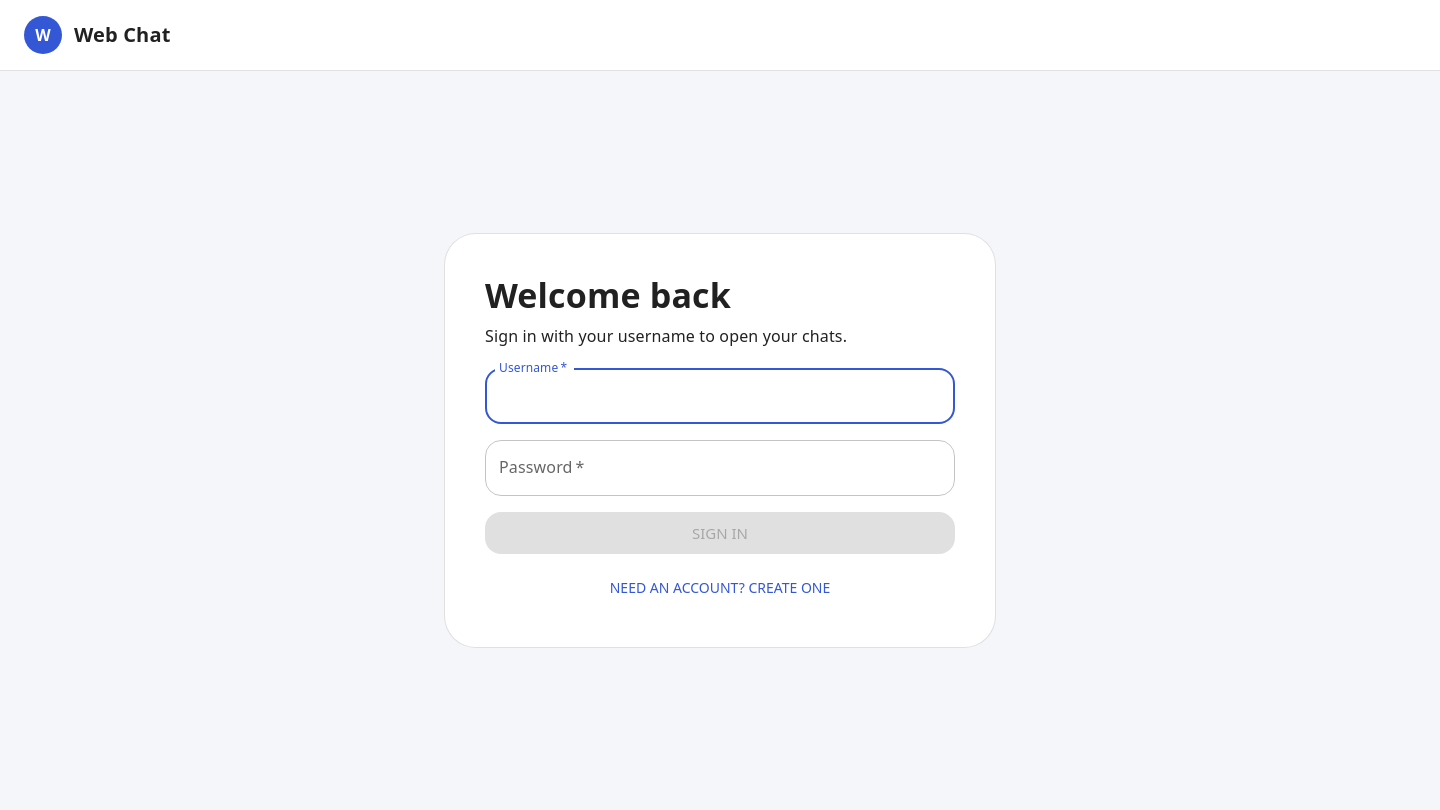
Test: chat application › shows login errors and registers without sending credentials as auth
Type "invalid" into the field labelled "Username" at (720, 396), box [485, 368, 955, 424]
Type "wrong-password" into the password field labelled "Password *" at (720, 468), box [485, 440, 955, 496]
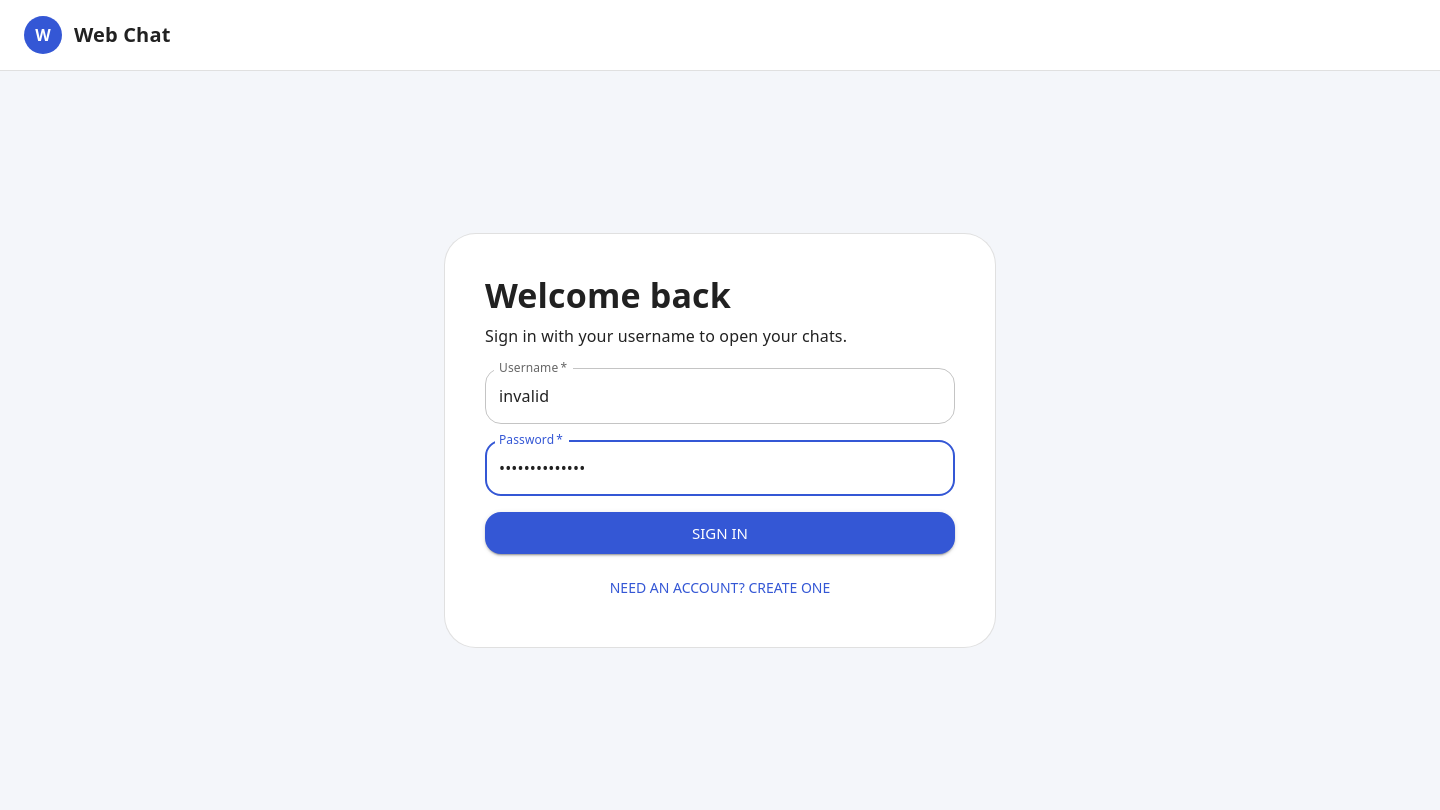
Click the button "Sign in" at (720, 533), box [485, 512, 955, 554]
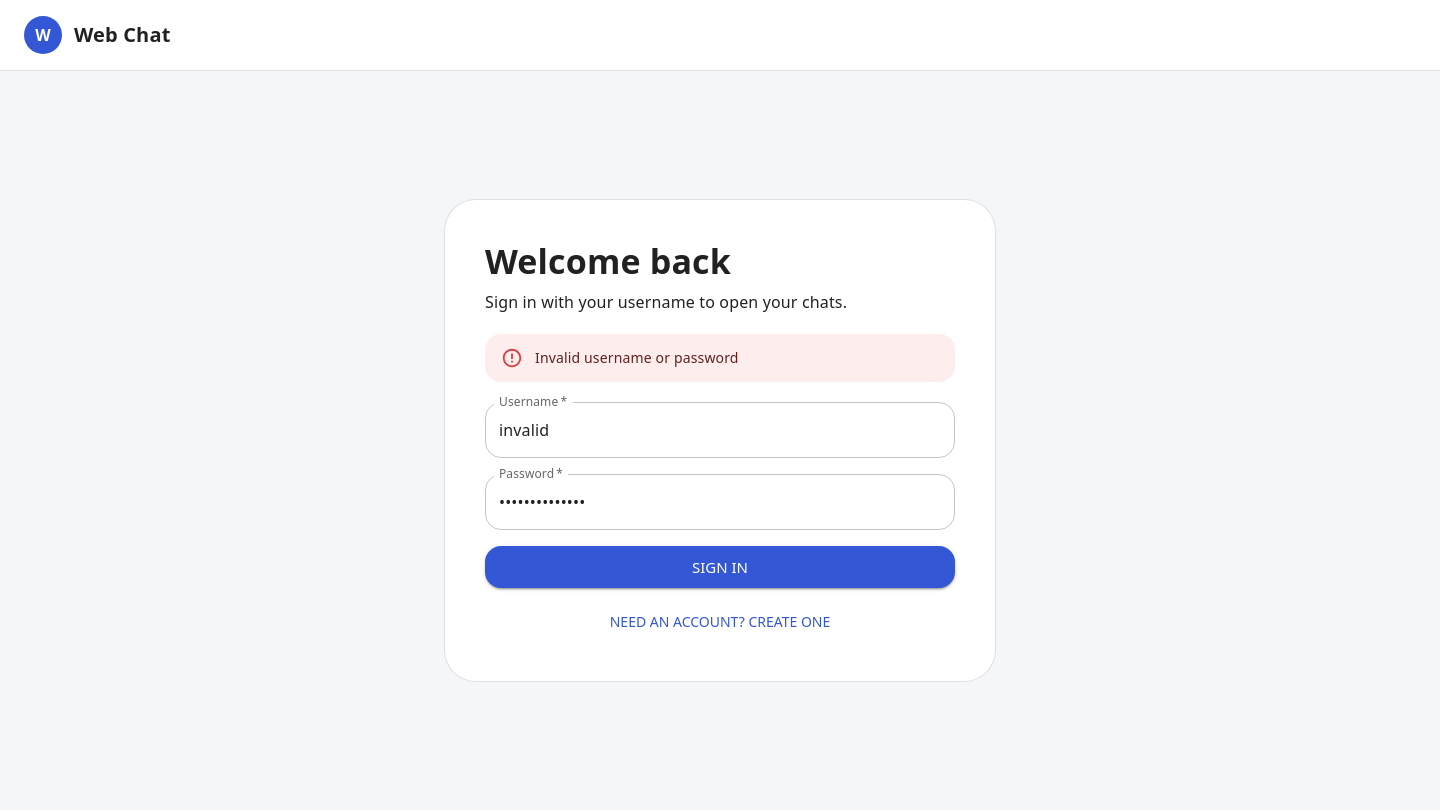
expect the message reads "Invalid username or password": met, box [535, 348, 739, 367]
Click the button "Need an account? Create one" at (720, 623), box [485, 604, 955, 641]
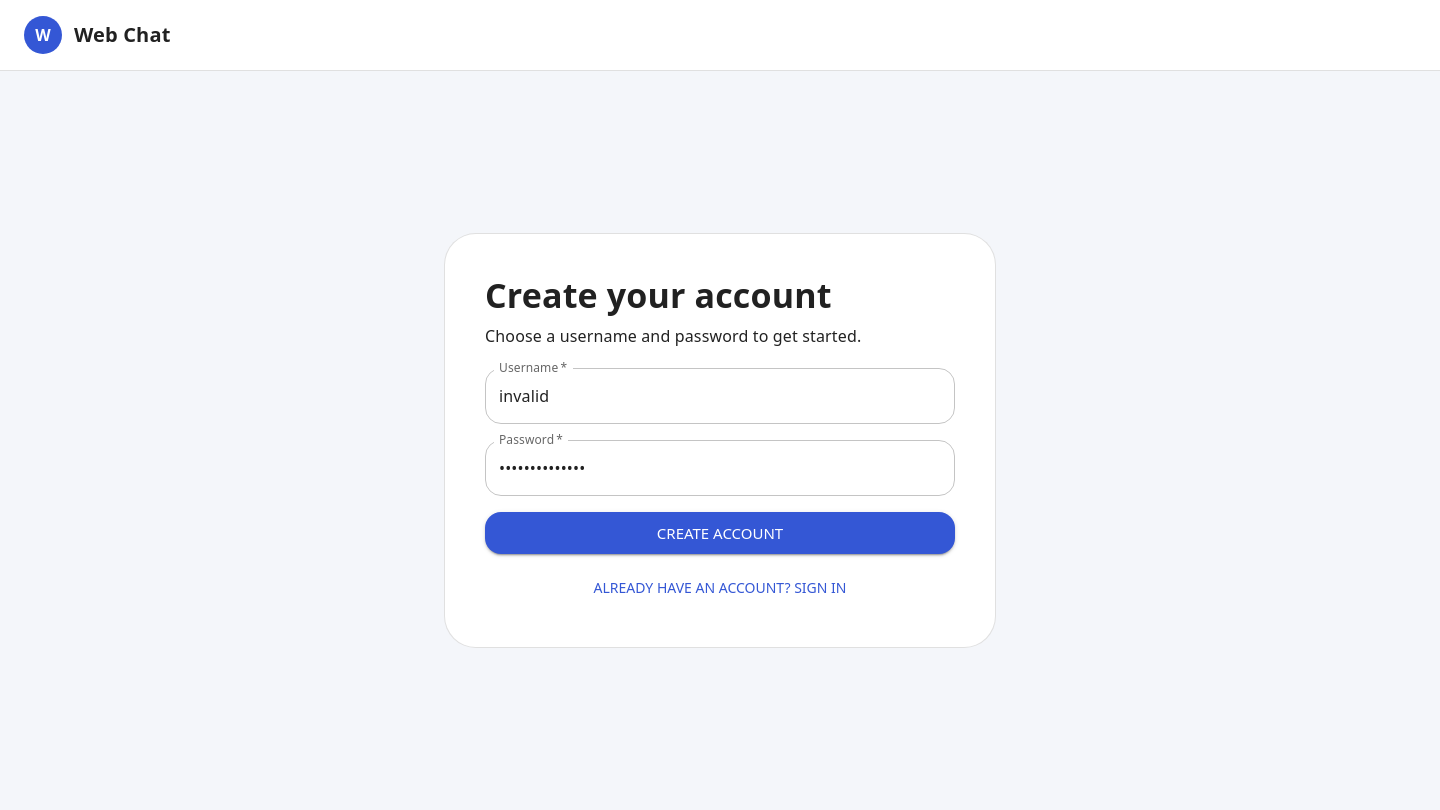
Replace the text in the field labelled "Username" with "new-user" at (720, 396), box [485, 368, 955, 424]
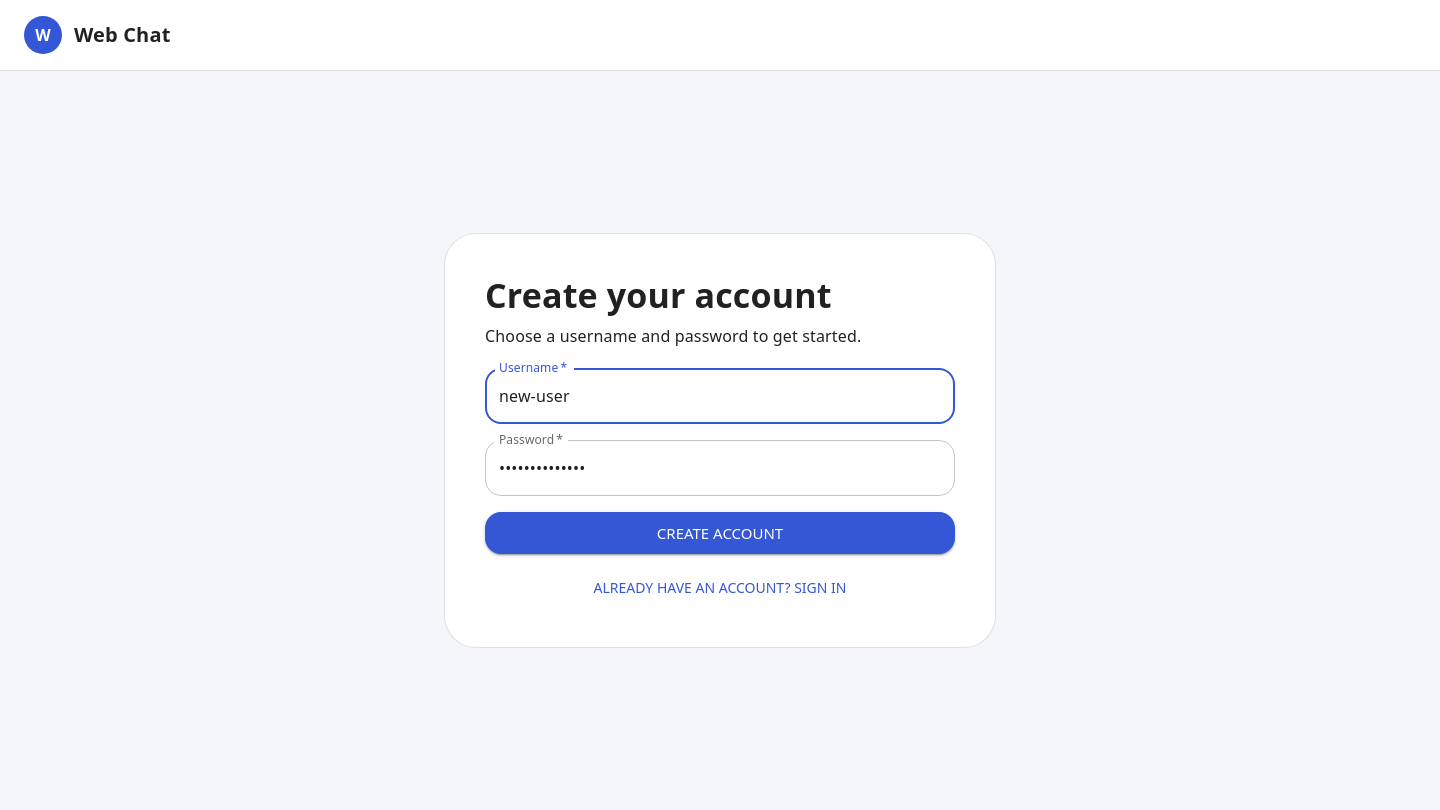
Type "new-password" into the password field labelled "Password *" at (720, 468), box [485, 440, 955, 496]
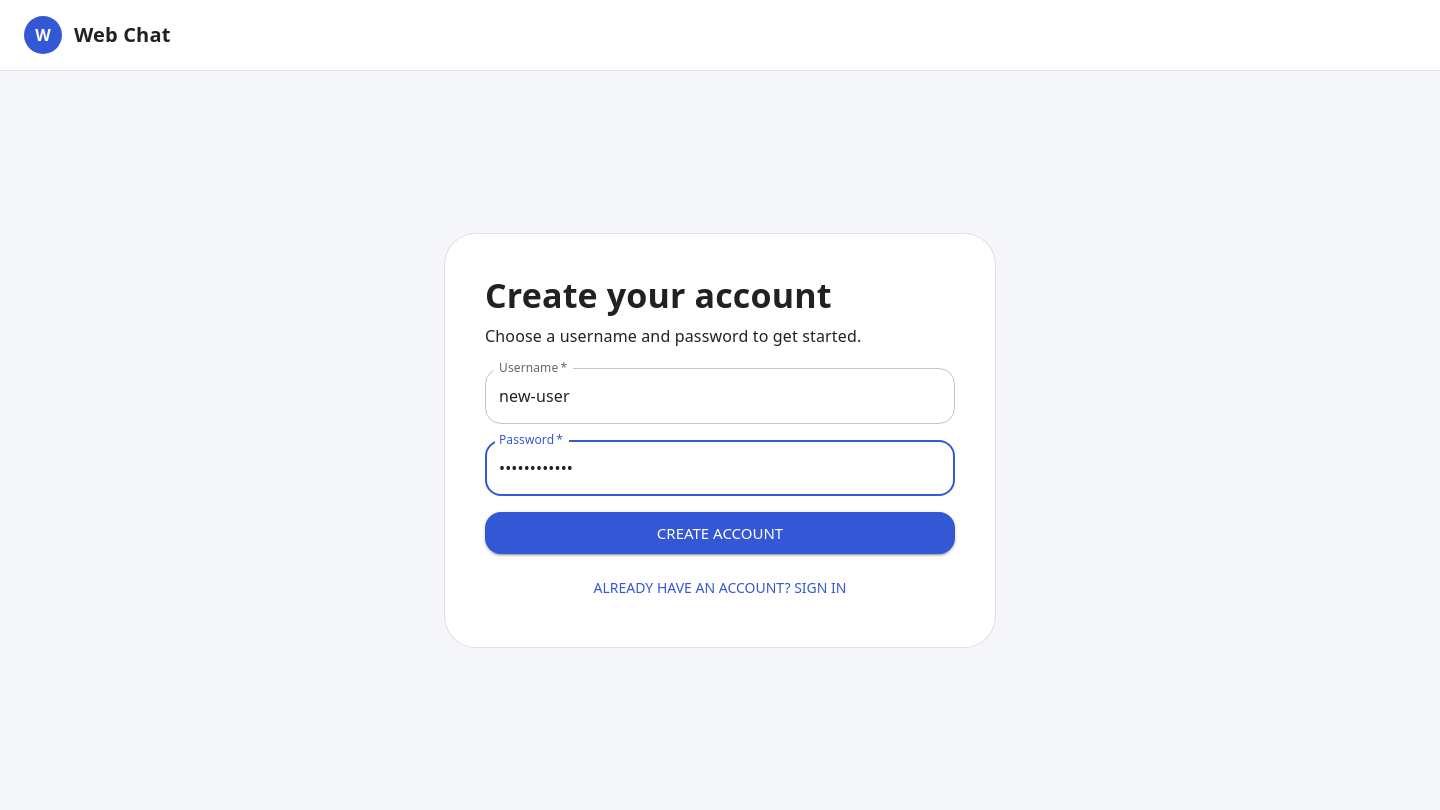
Click the button "Create account" at (720, 533), box [485, 512, 955, 554]
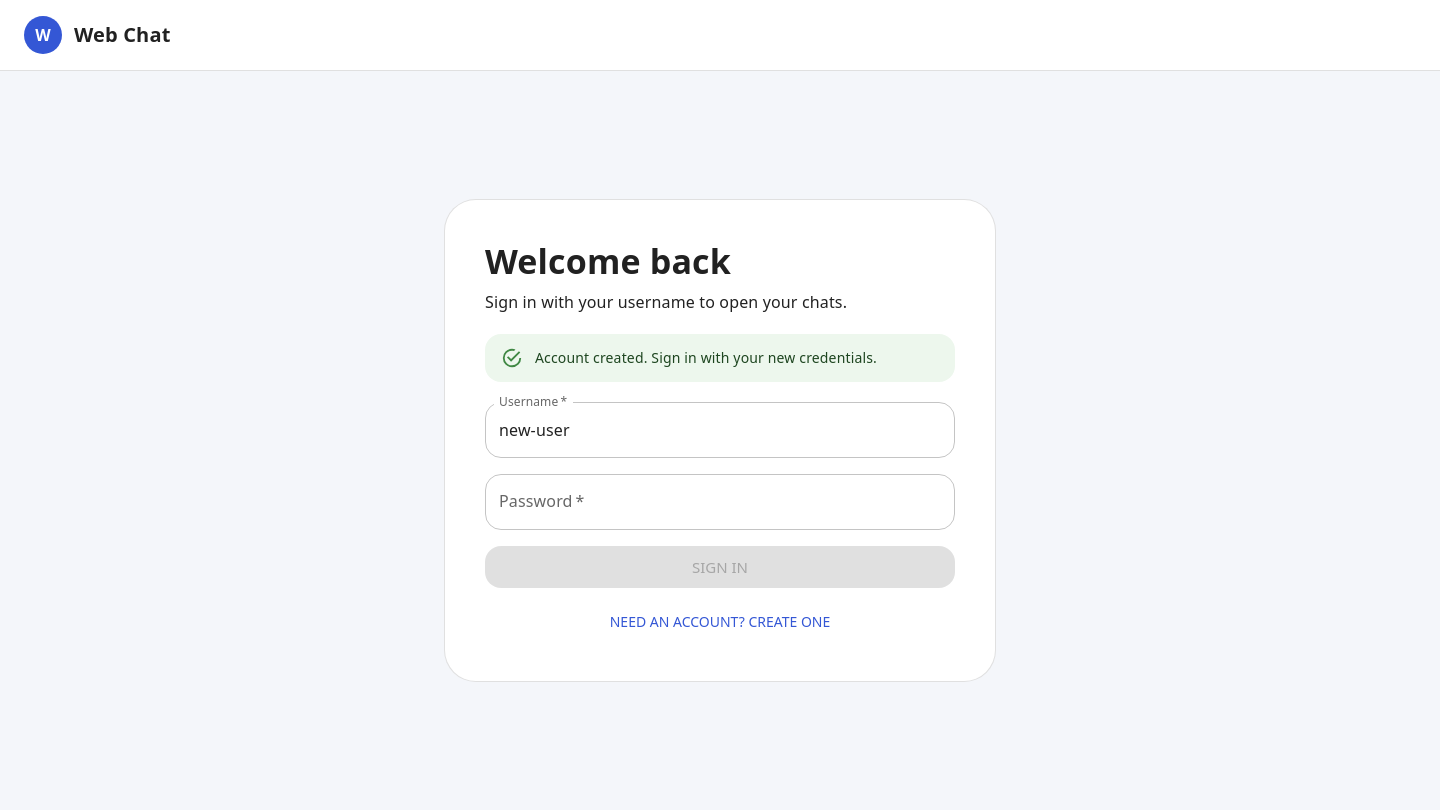
expect the text "Account created. Sign in with your new credentials." is shown: met, box [535, 348, 877, 367]
